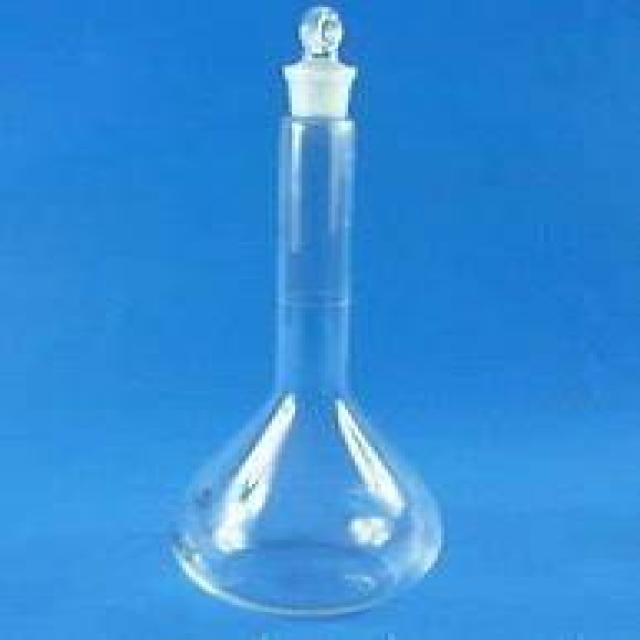Volumetric flask: (158, 15, 452, 615)
